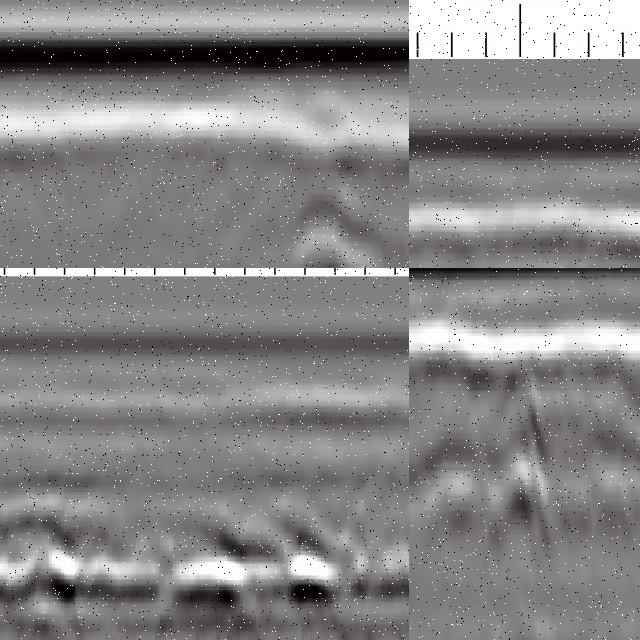loose: (410, 318, 640, 543), (1, 511, 351, 640), (293, 175, 410, 269)
